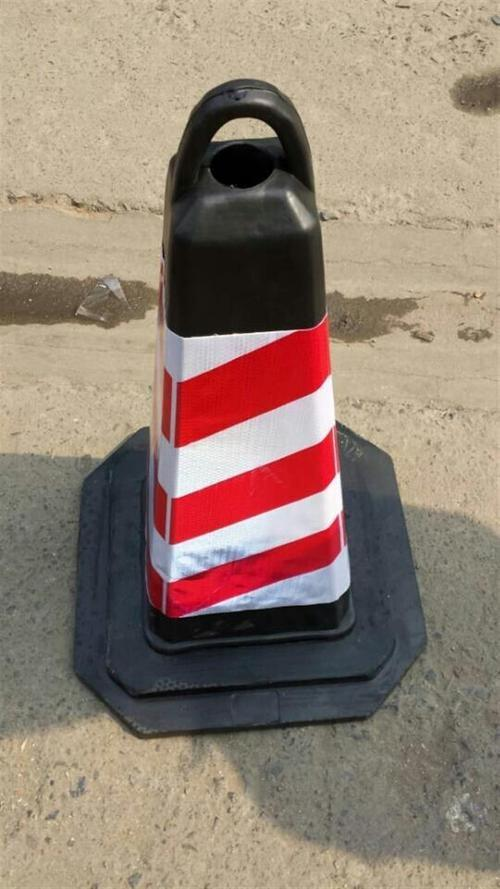cone_barrel: (96, 93, 388, 668)
